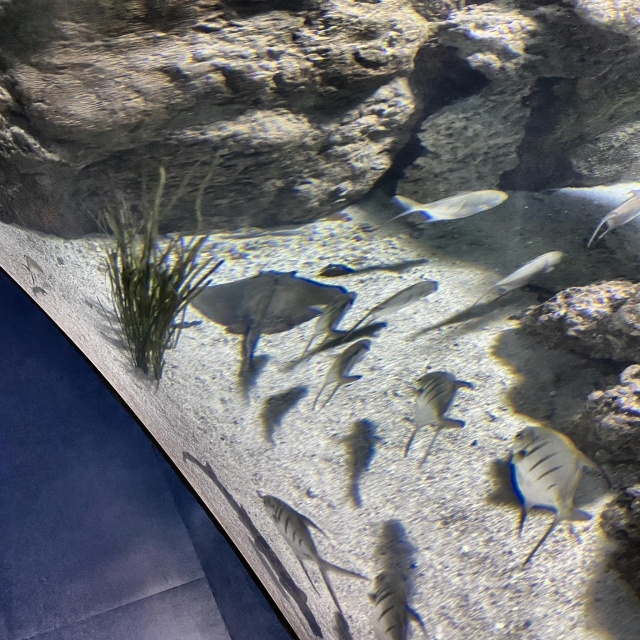fish: (504, 425, 597, 535), (395, 369, 479, 459), (337, 275, 441, 346), (465, 245, 564, 313), (385, 188, 510, 226), (312, 335, 373, 410), (299, 289, 358, 364), (588, 187, 639, 250)
stingray: (182, 269, 344, 338)
